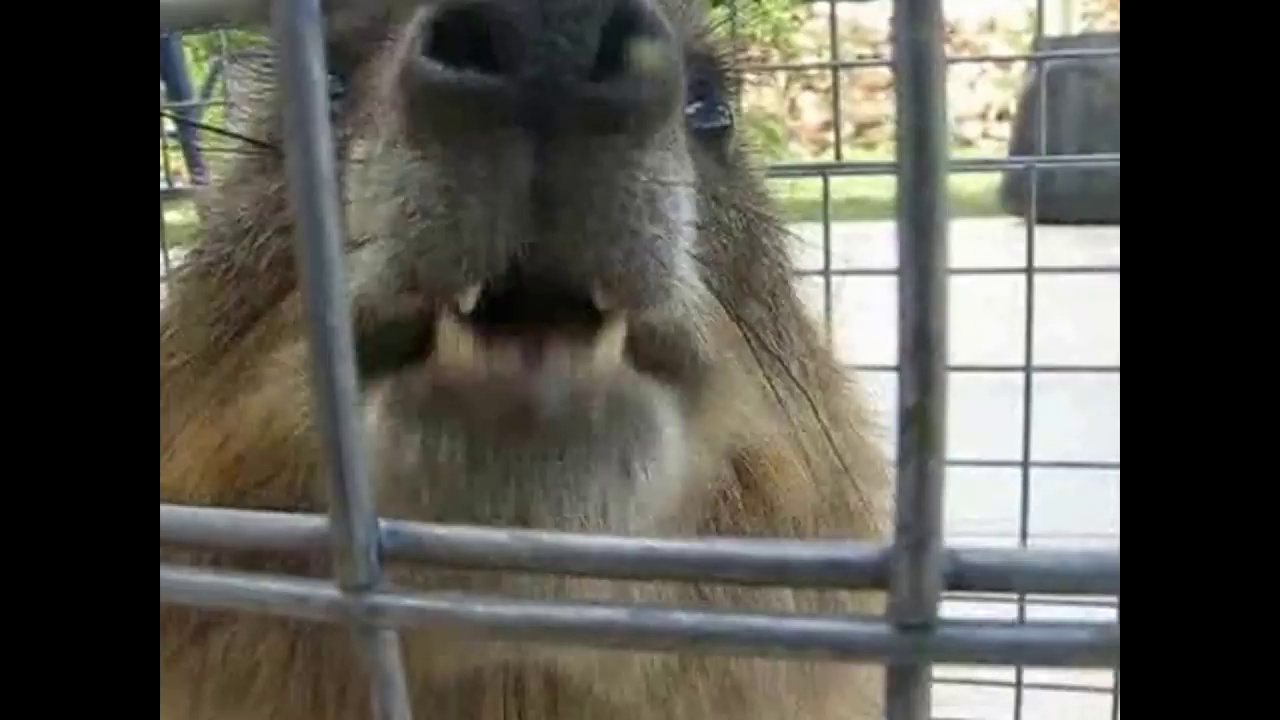Rock Hyrex: (156, 1, 892, 718)
